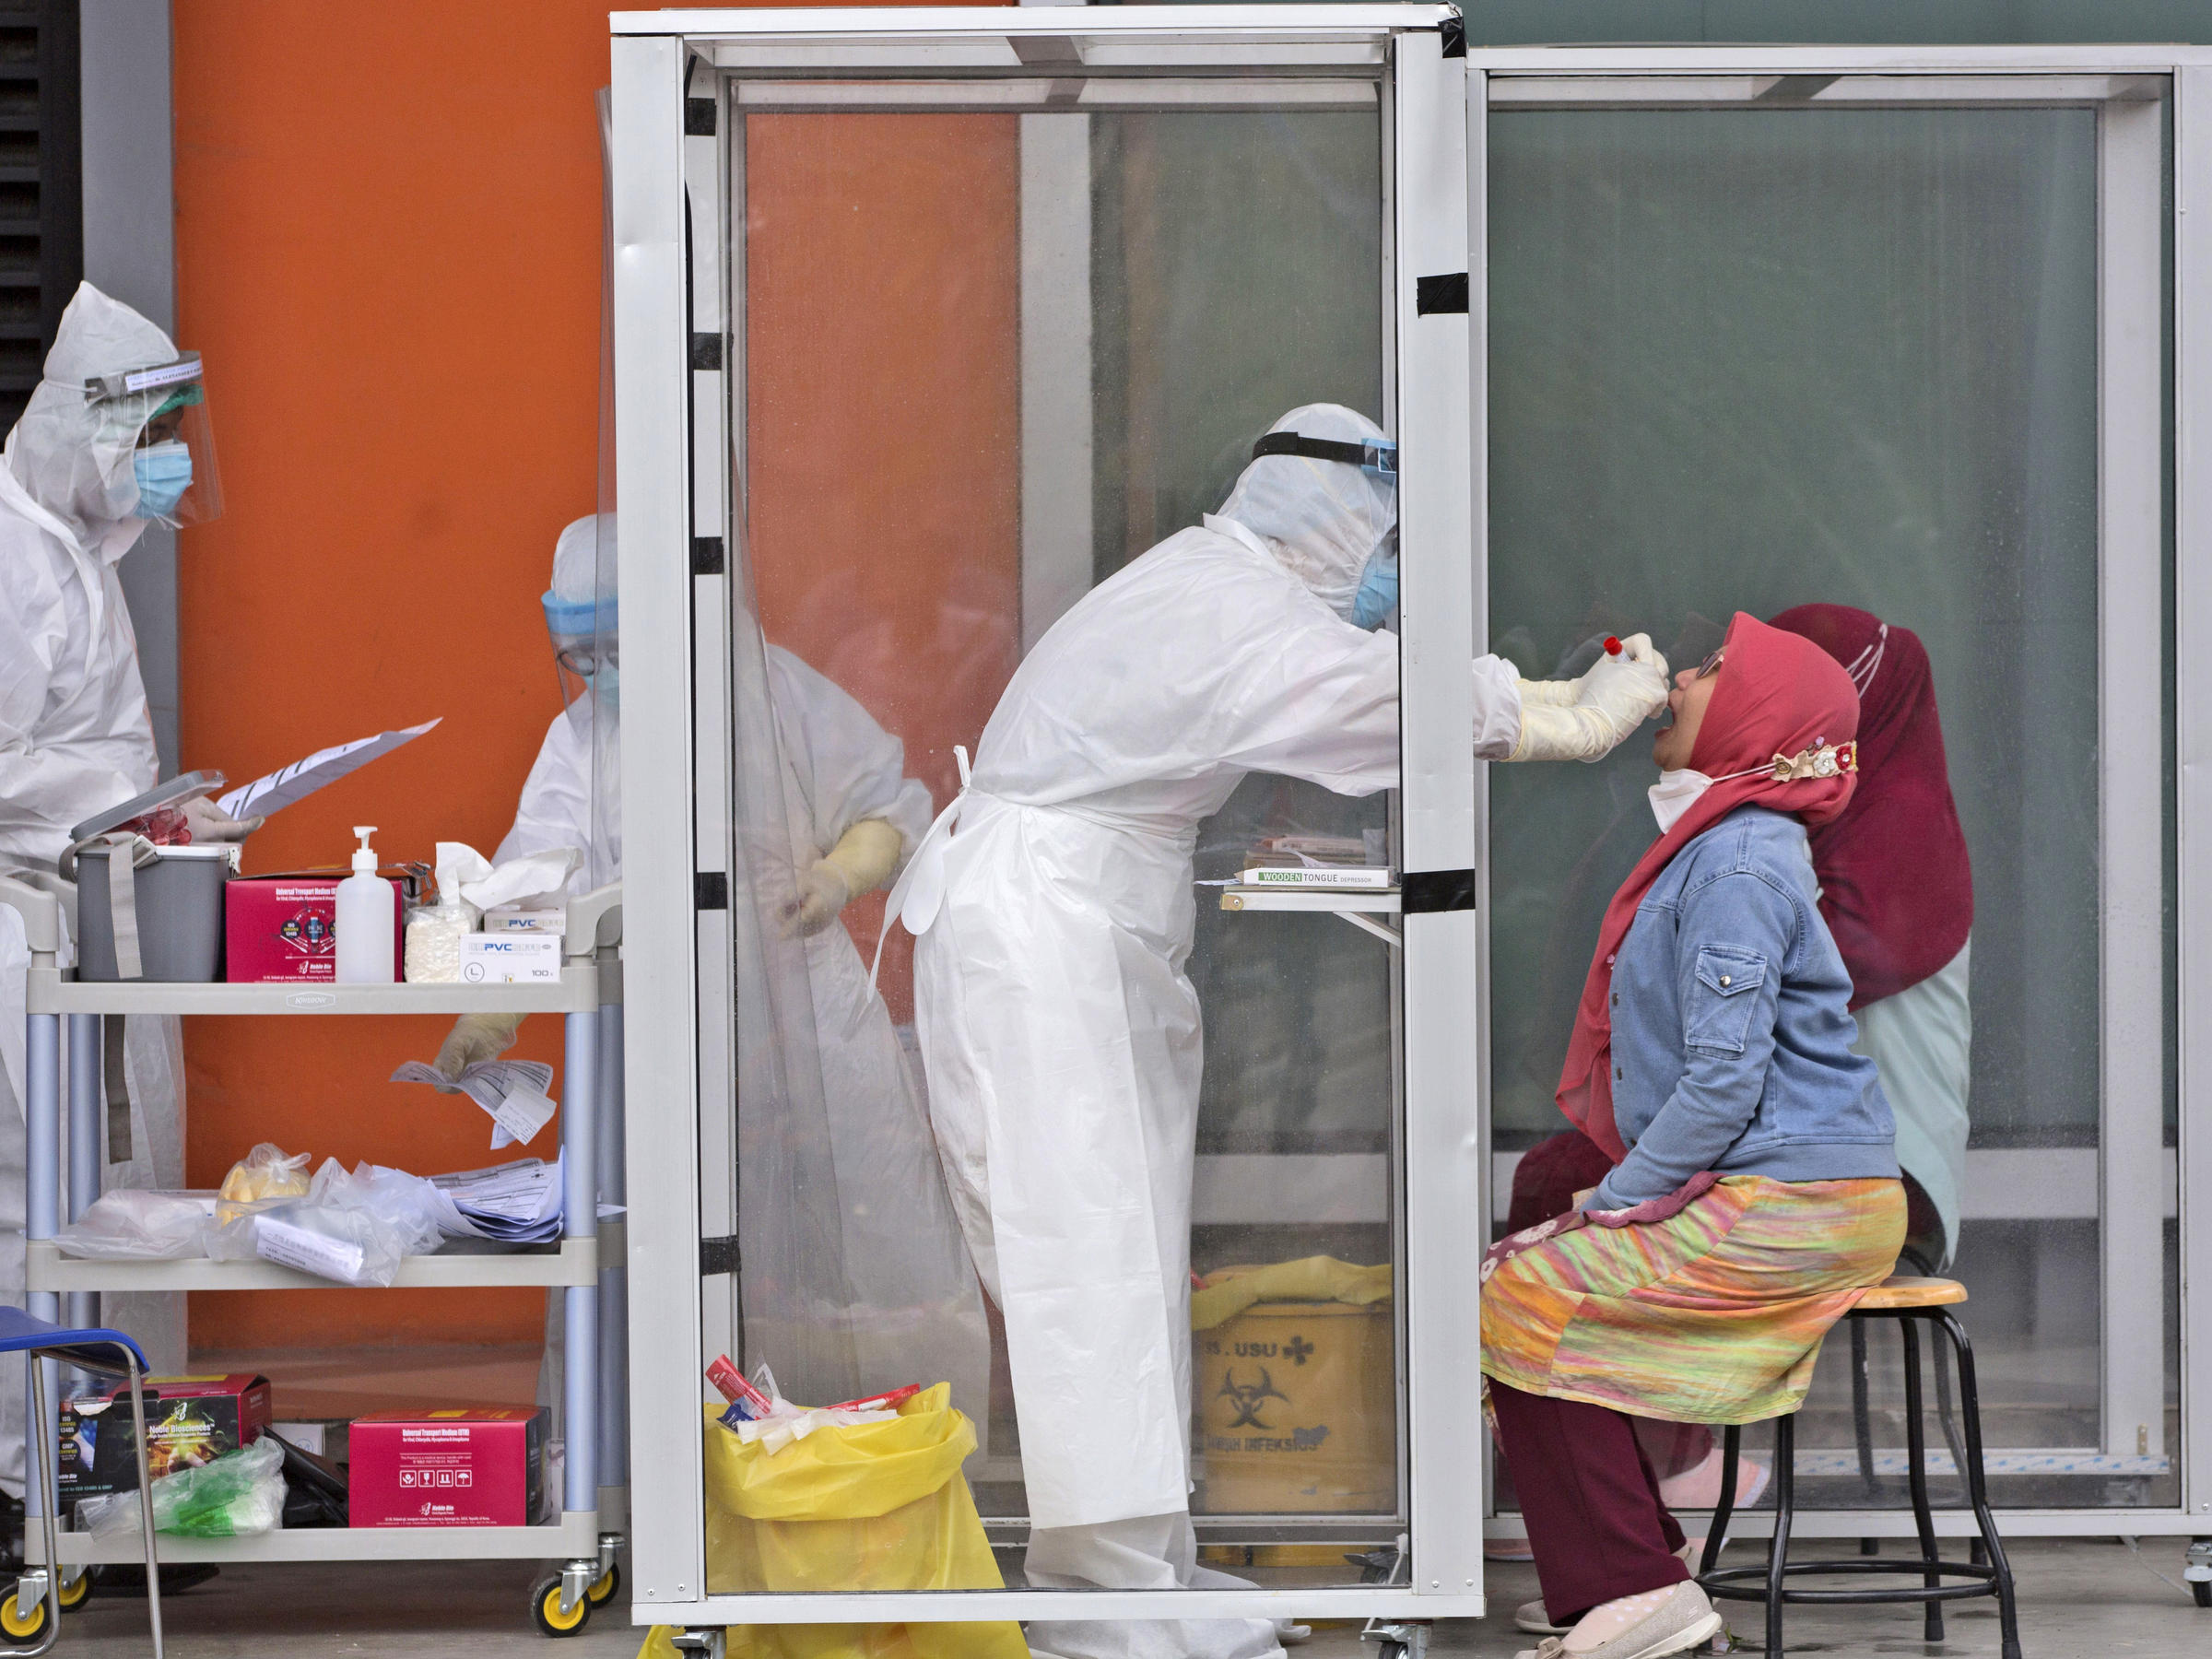Coverall: (892, 394, 1517, 1659)
Face_Shield: (88, 353, 232, 550), (544, 591, 637, 749)
Gloves: (1518, 628, 1677, 791), (766, 807, 909, 956), (424, 1004, 533, 1099)
with_mask: (121, 397, 201, 531), (1343, 516, 1414, 645), (558, 628, 628, 725)
without_mask: (1637, 634, 1745, 775)
